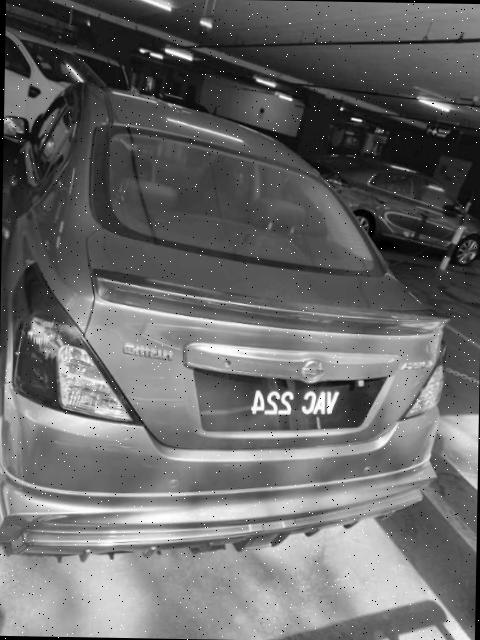License_Plate: (190, 369, 389, 437)
car: (1, 79, 455, 569)
